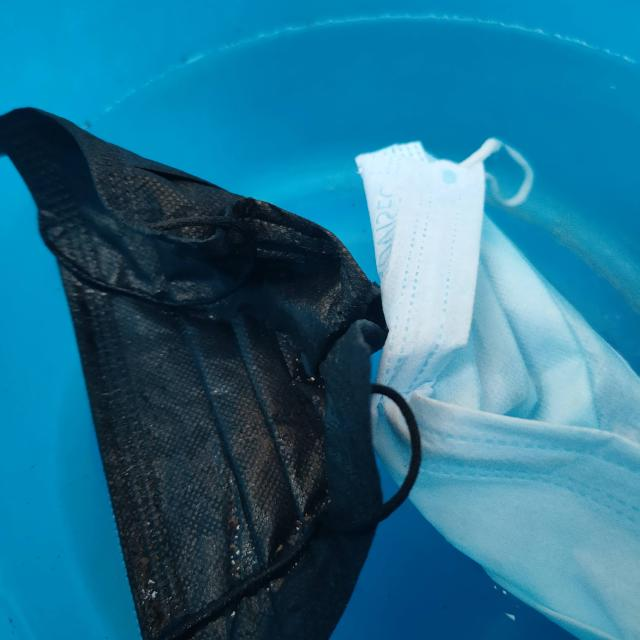litter: (0, 95, 416, 640), (360, 139, 640, 640)
